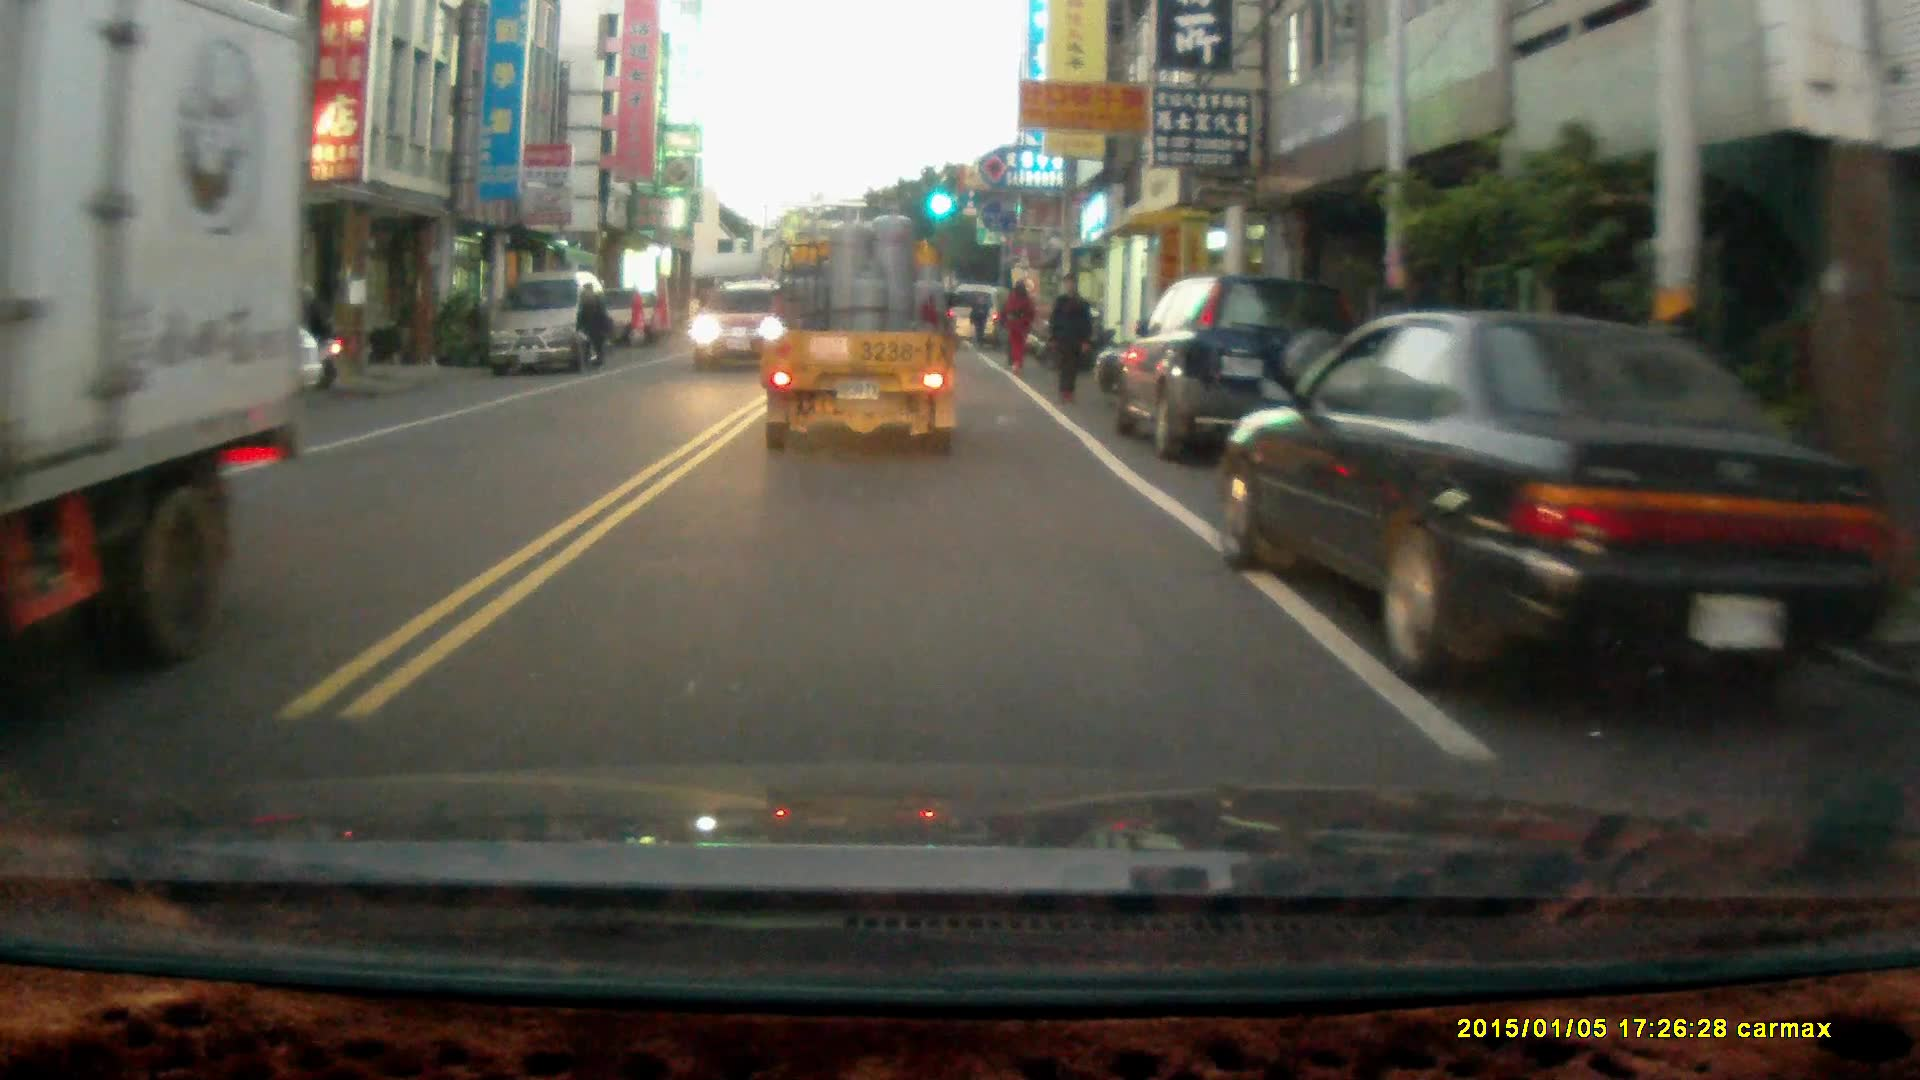pedestrian: (1043, 267, 1095, 402), (997, 277, 1034, 372), (572, 279, 610, 367), (970, 288, 991, 344)
vehicle: (1219, 306, 1843, 698), (1, 8, 303, 669), (758, 195, 963, 462), (1116, 271, 1358, 463), (488, 269, 609, 375), (687, 279, 778, 369)
